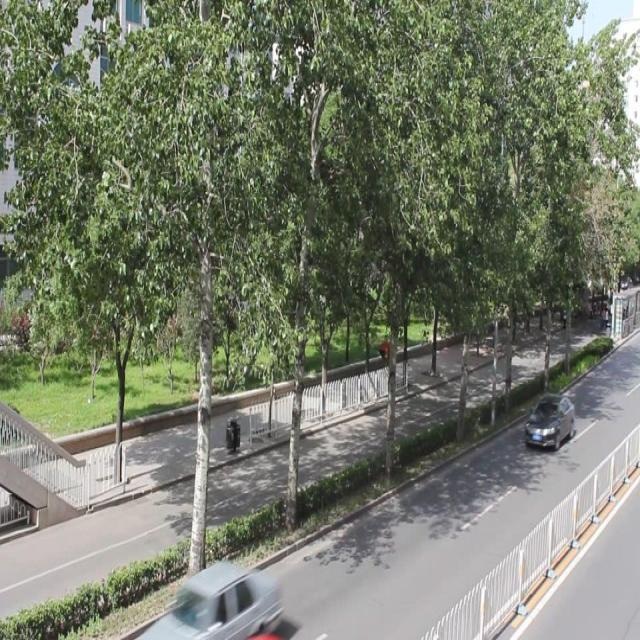car: (153, 560, 277, 640), (524, 390, 574, 448)
